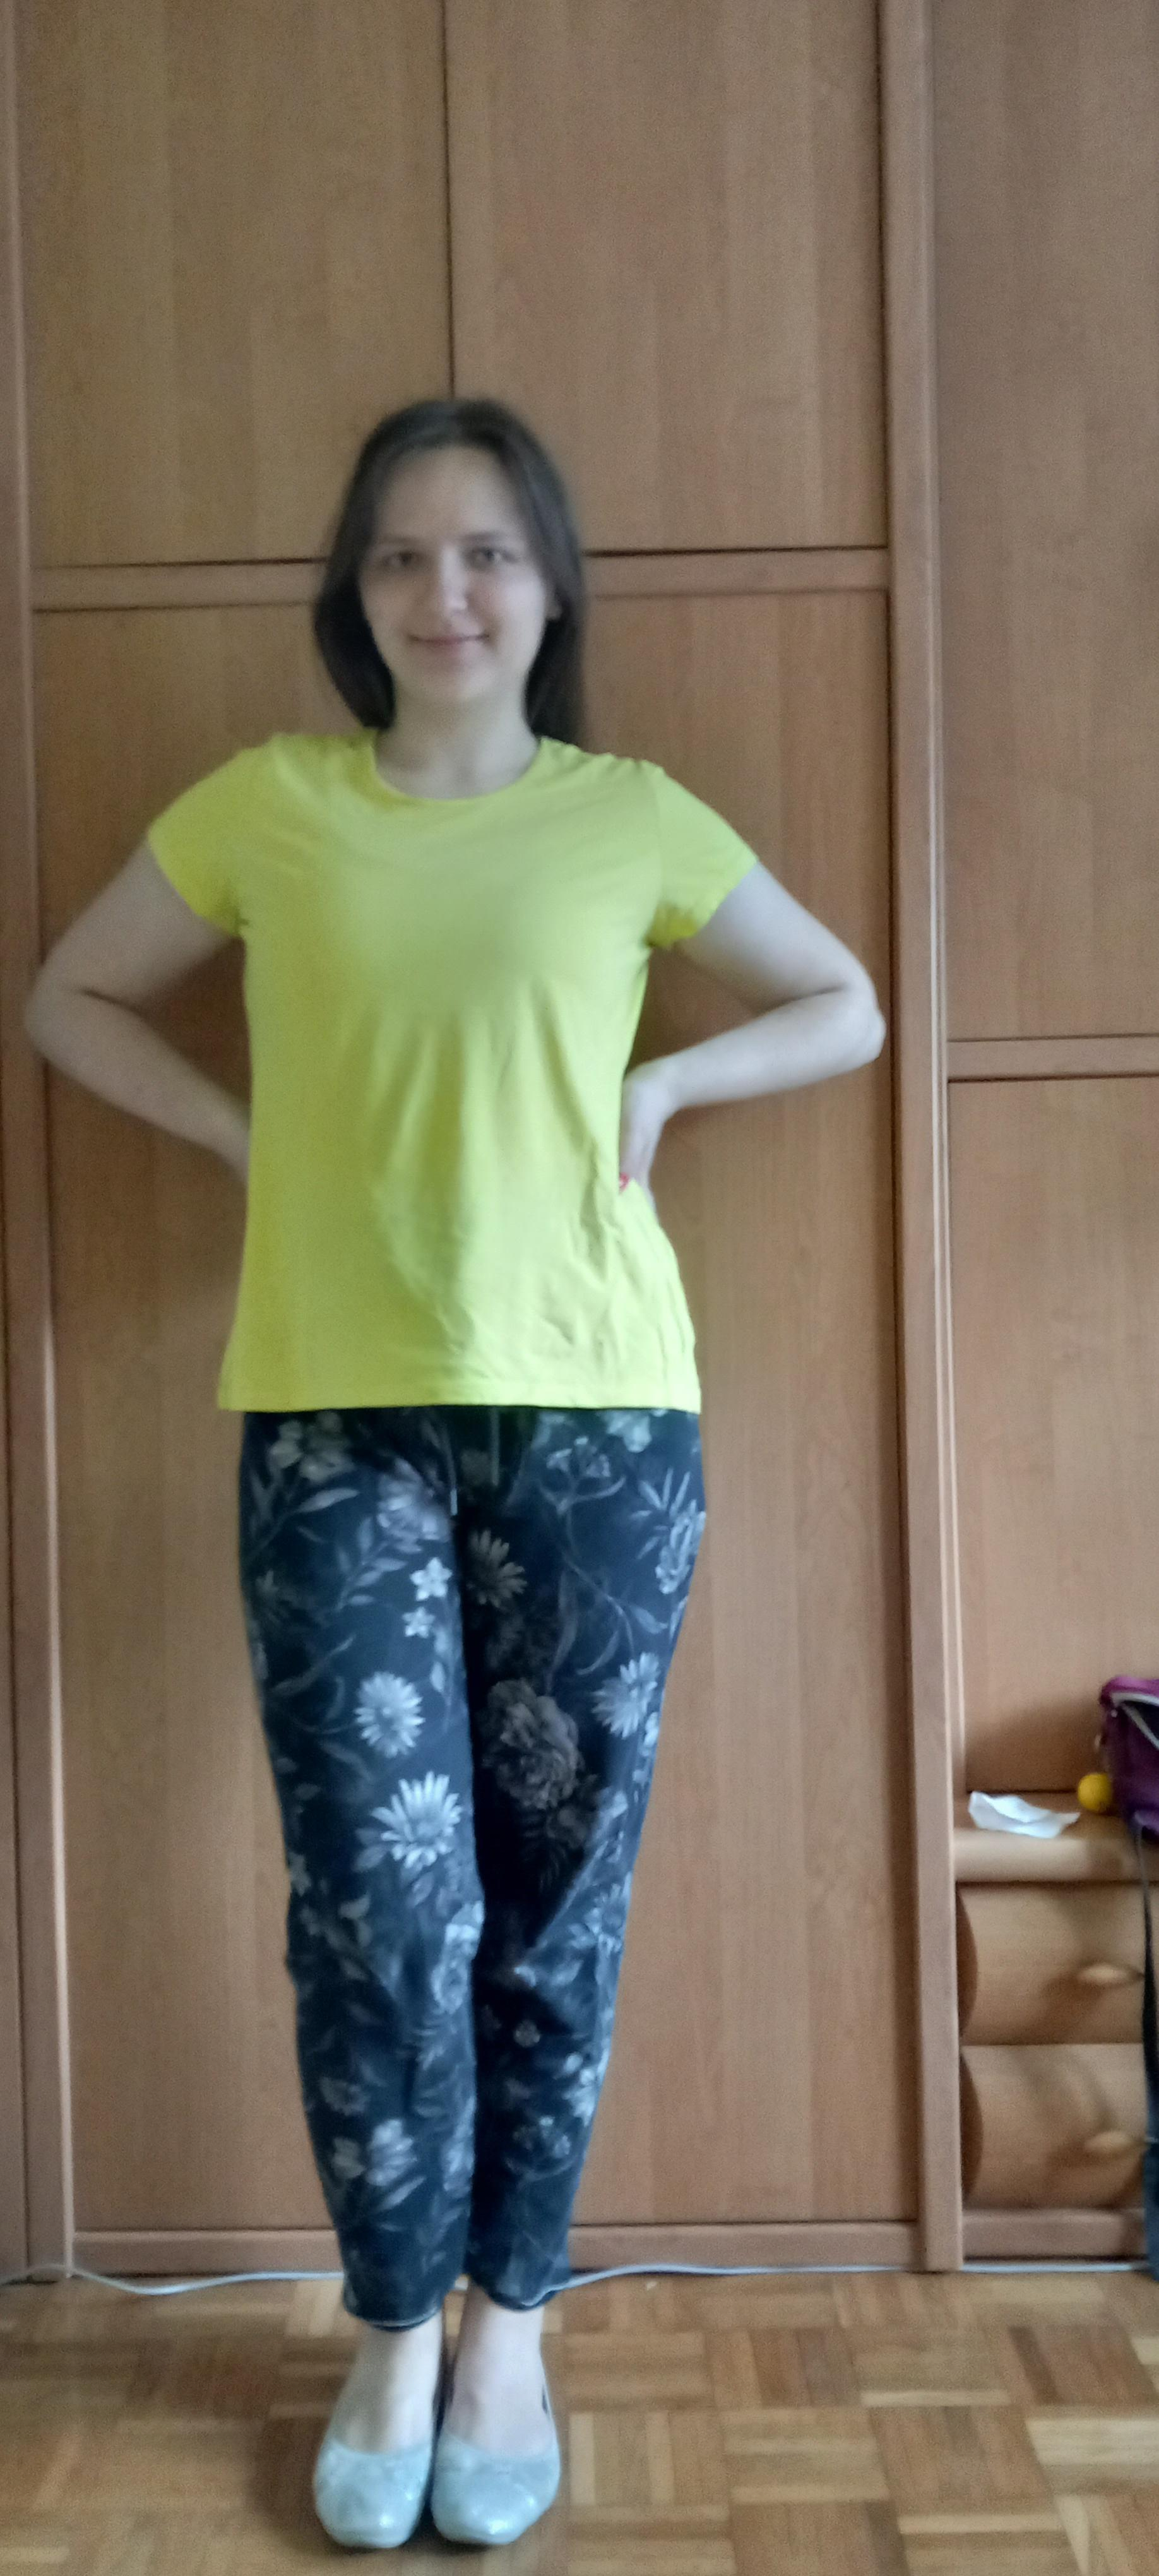Tshirt: (141, 729, 763, 1418)
pants: (235, 1406, 708, 2331)
